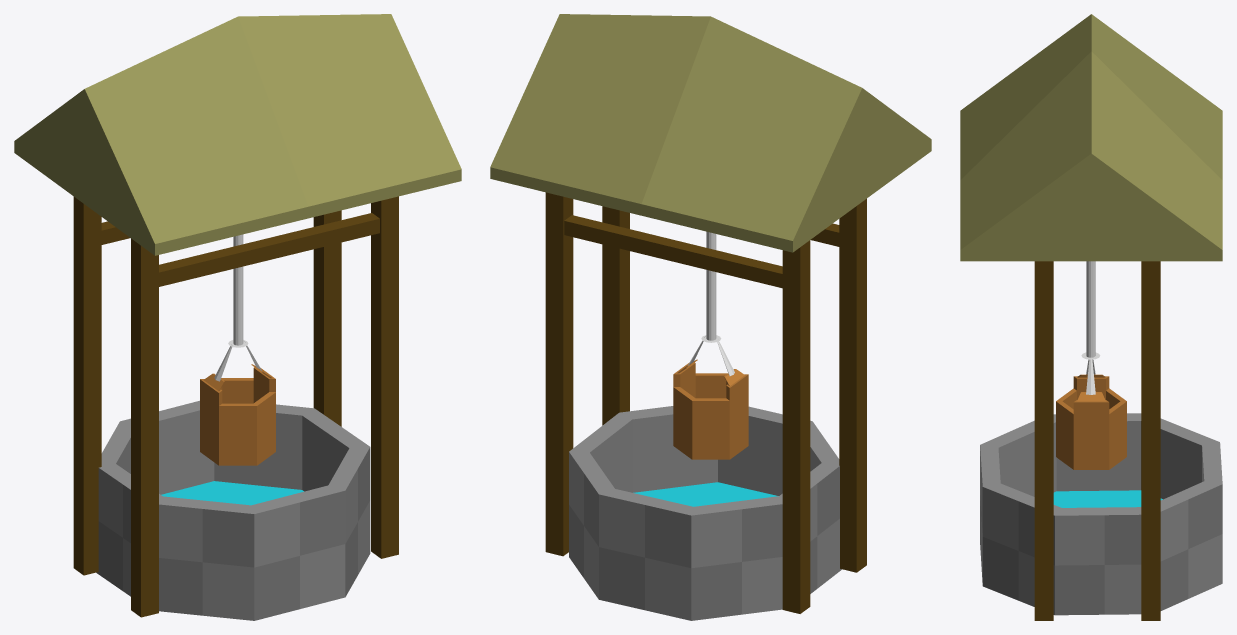
Rendered from Sumur.fbx.
3 views of the same model, side by side, from view 1: azimuth 30°, elevation 25°; view 2: azimuth 150°, elevation 25°; view 3: azimuth 270°, elevation 25° (orthographic). The views are drawn at different scales.
Visible parts, largest first — view 1: Atap, Sumur, Tiang.003, Tiang.002, Tiang, Cylinder, Tiang.001, Tiang.004, Tali; view 2: Atap, Sumur, Tiang.003, Tiang.002, Tiang.001, Cylinder, Tiang, Tiang.005, Tali; view 3: Atap, Sumur, Tiang, Tiang.001, Cylinder, Tali.
Boxes of the visible parts, x1,y1,x2,y2 form: Atap: (14,14,461,255); Sumur: (96,400,370,620); Tiang.003: (73,196,101,575); Tiang.002: (131,238,158,617); Tiang: (371,196,398,558); Cylinder: (200,364,275,465); Tiang.001: (313,210,341,426); Tiang.004: (159,213,379,286); Tali: (214,234,261,381); Atap: (490,14,931,252); Sumur: (569,406,841,620); Tiang.003: (782,240,810,613); Tiang.002: (839,198,866,572); Tiang.001: (545,192,573,556); Cylinder: (673,359,748,459); Tiang: (602,206,629,425); Tiang.005: (564,215,782,288); Tali: (688,231,734,375); Atap: (960,14,1222,261); Sumur: (980,413,1222,615); Tiang: (1034,261,1053,620); Tiang.001: (1141,261,1160,620); Cylinder: (1056,374,1126,469); Tali: (1081,261,1100,394).
Size of the model in its own units: 495 by 848 by 393.
